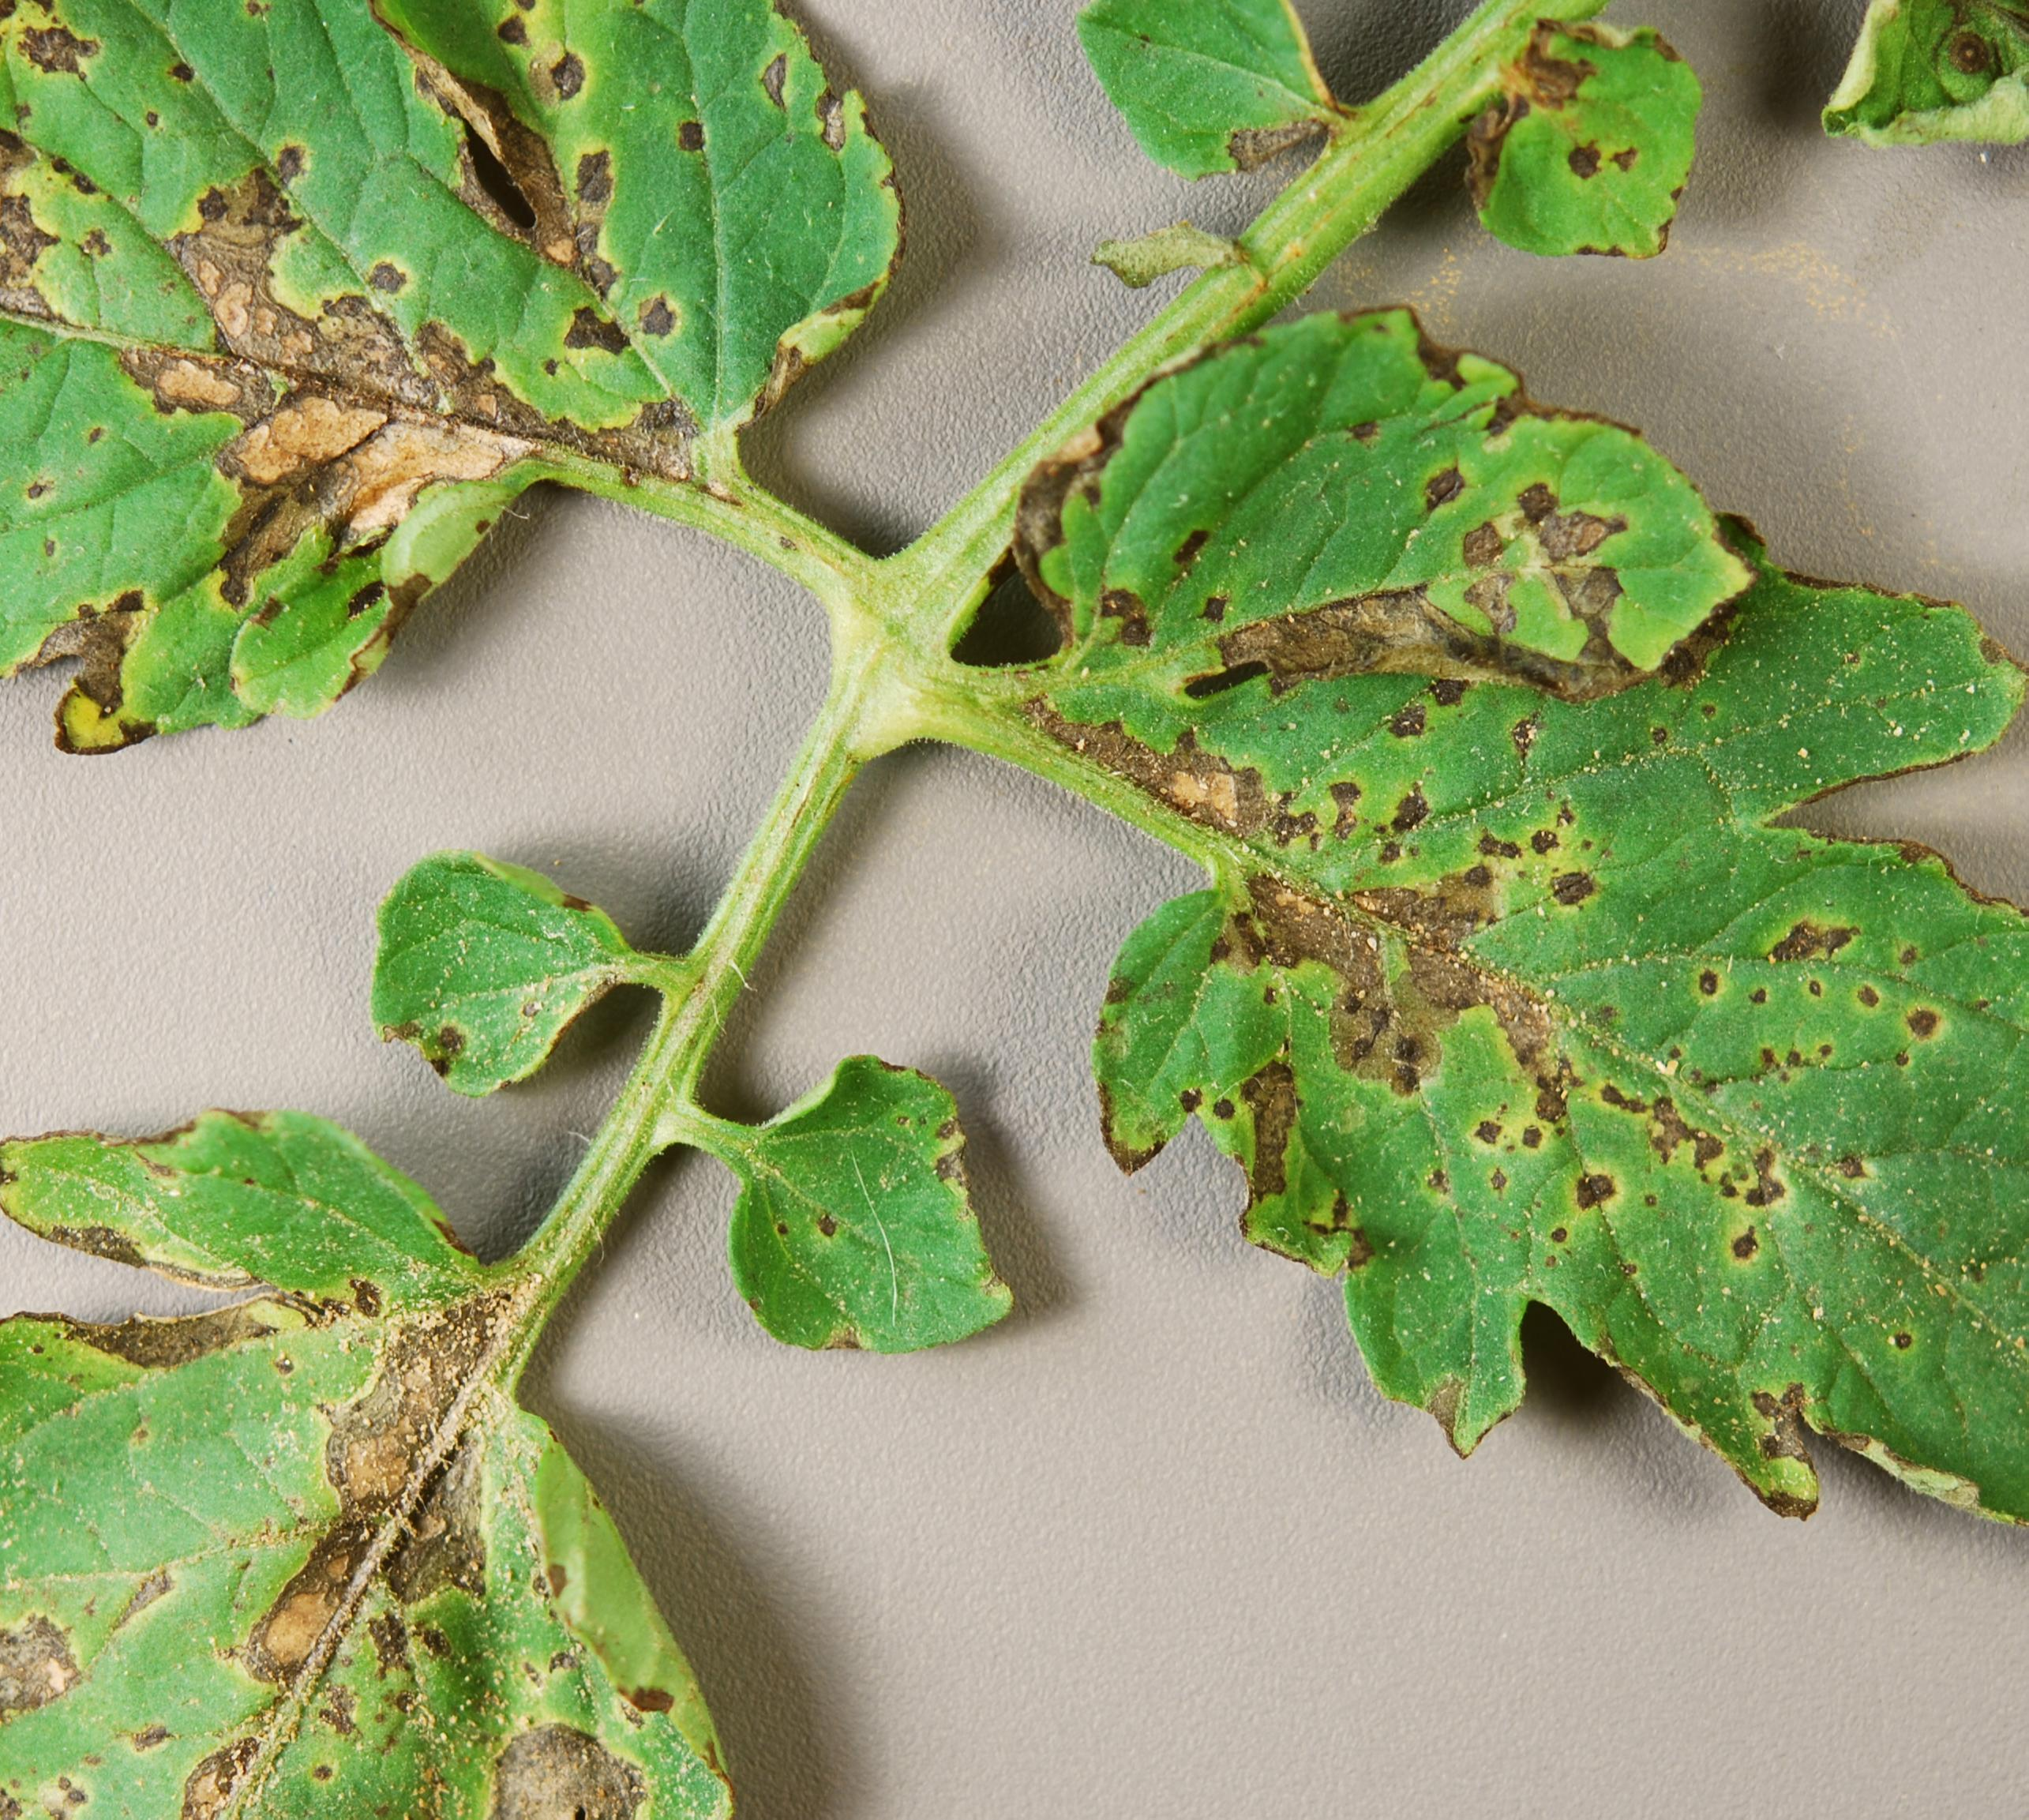Tomato Septoria leaf spot: (1003, 543, 2029, 1699), (0, 0, 952, 801), (0, 908, 775, 1820), (1000, 304, 1802, 764), (676, 1061, 1110, 1414)
